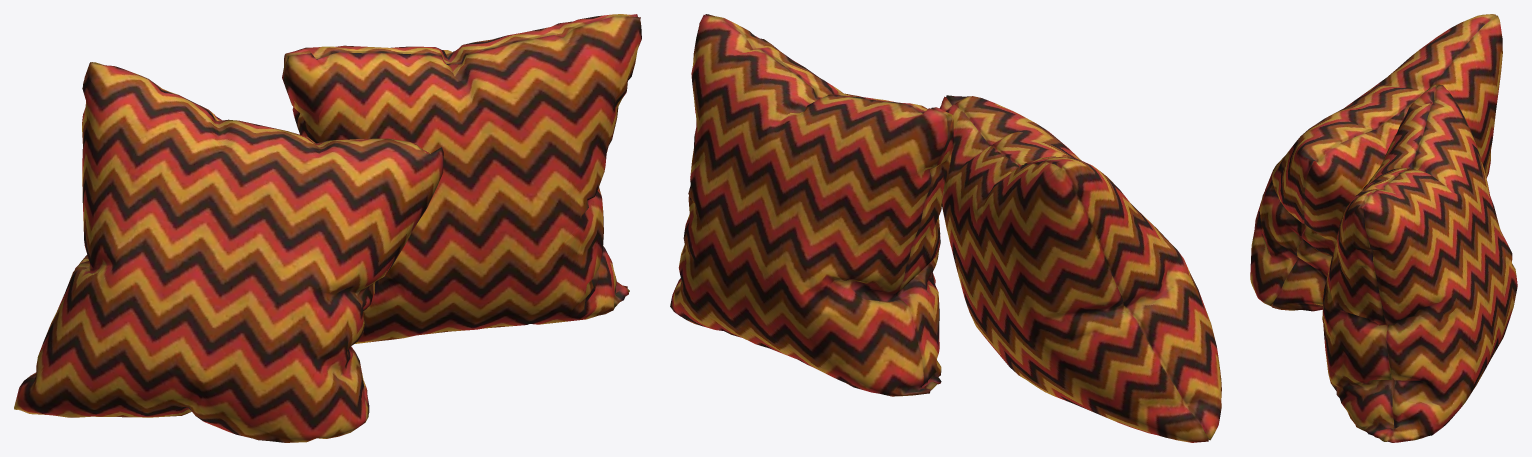
File: throw_pillows_01.glb
The picture shows the model from 3 angles, left to right: view 1: azimuth 30°, elevation 25°; view 2: azimuth 150°, elevation 25°; view 3: azimuth 270°, elevation 25°; orthographic projection. The views are drawn at different scales.
Visible parts, largest first — view 1: throw_pillows_01_pillow02; view 2: throw_pillows_01_pillow02; view 3: throw_pillows_01_pillow02.
Part boxes in pixels (box(x1,y1,x2,y2)): throw_pillows_01_pillow02: box(14, 14, 641, 442); throw_pillows_01_pillow02: box(670, 14, 1221, 442); throw_pillows_01_pillow02: box(1250, 14, 1517, 442).
Size of the model in its own units: 0.9401 by 0.4502 by 0.4519.
1 material, 1 textured.
